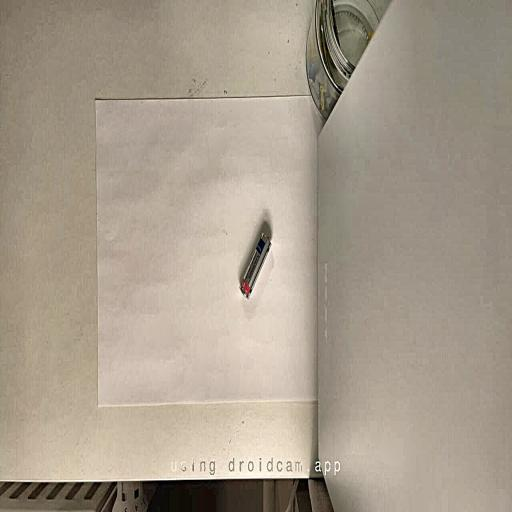RainbowAA: (240, 234, 271, 298)
